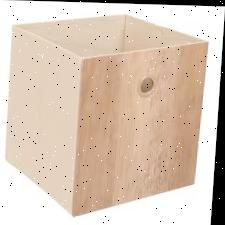cube: (4, 10, 211, 220)
